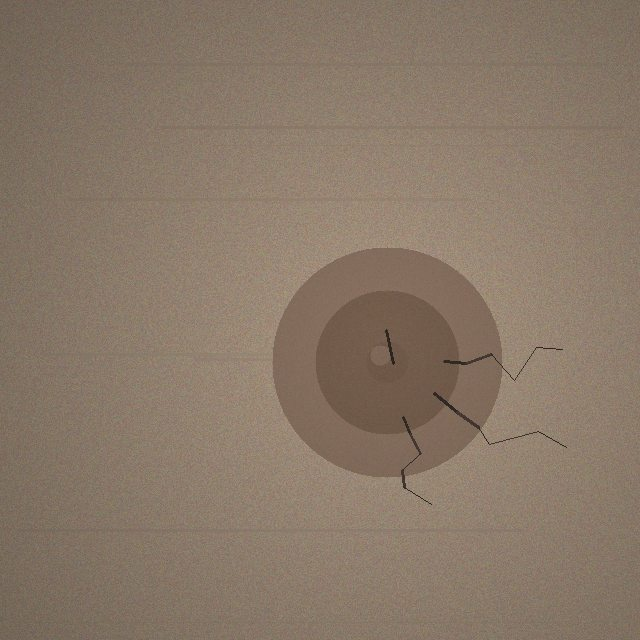crack: (272, 247, 502, 477)
